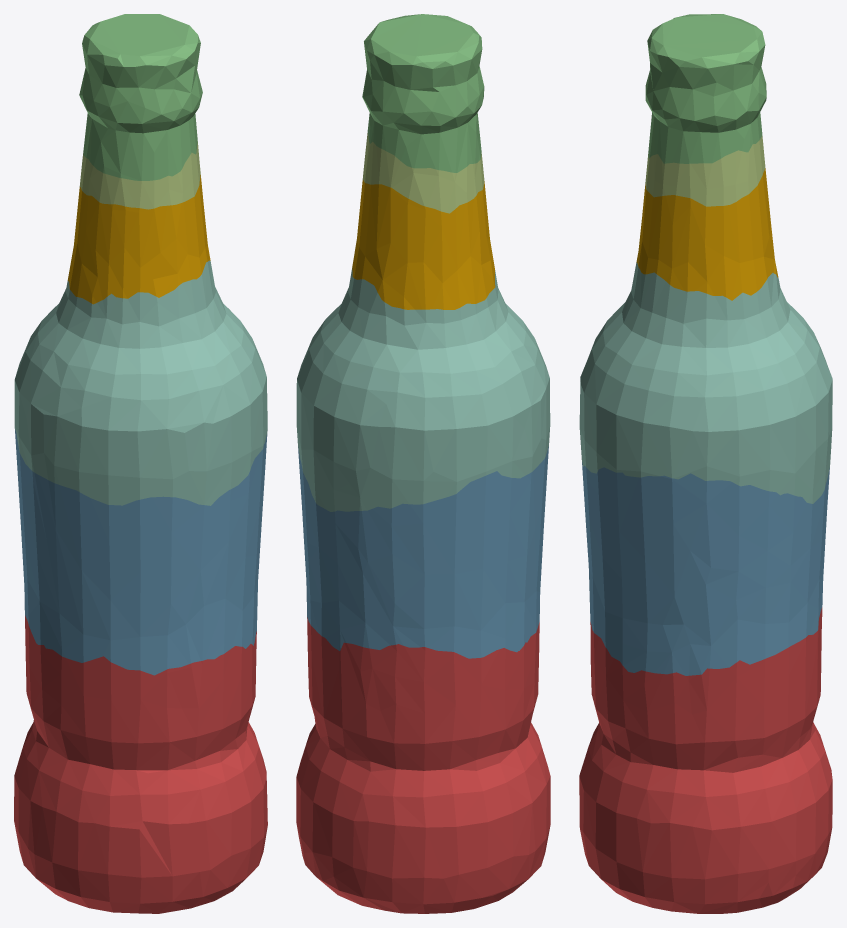
Rendered from fractured_25_6pcs.glb.
3 renders of one model, left to right at view 1: azimuth 30°, elevation 25°; view 2: azimuth 150°, elevation 25°; view 3: azimuth 270°, elevation 25°, orthographic.
Parts seen in each view (by area): view 1: piece_1.obj, piece_4.obj, piece_2.obj, piece_3.obj, piece_0.obj, piece_5.obj; view 2: piece_1.obj, piece_4.obj, piece_2.obj, piece_3.obj, piece_0.obj, piece_5.obj; view 3: piece_1.obj, piece_4.obj, piece_2.obj, piece_3.obj, piece_0.obj, piece_5.obj.
Part boxes in pixels (x1,y1,x2,y2): piece_1.obj: (14,615,267,913); piece_4.obj: (14,260,267,505); piece_2.obj: (15,429,267,675); piece_3.obj: (79,14,202,180); piece_0.obj: (67,175,210,304); piece_5.obj: (79,142,200,209); piece_1.obj: (296,617,550,913); piece_4.obj: (296,268,550,511); piece_2.obj: (298,446,548,658); piece_3.obj: (362,14,484,172); piece_0.obj: (352,180,495,309); piece_5.obj: (362,133,484,213); piece_1.obj: (579,607,832,913); piece_4.obj: (579,262,832,503); piece_2.obj: (582,462,829,675); piece_3.obj: (645,14,766,163); piece_0.obj: (636,168,778,300); piece_5.obj: (645,135,765,206).
Size of the model in its own units: 0.2746 by 1 by 0.2742.
